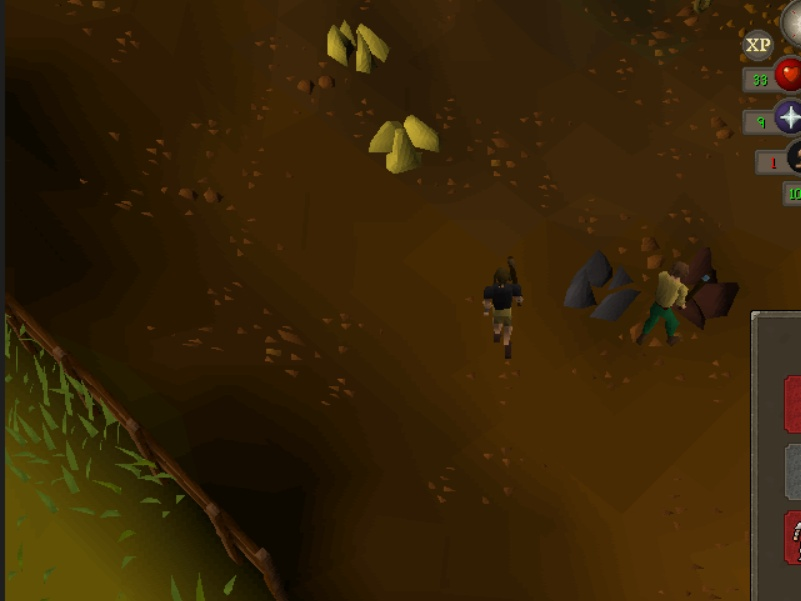gold: (366, 110, 451, 179), (318, 15, 398, 77)
iron: (667, 229, 757, 342)
